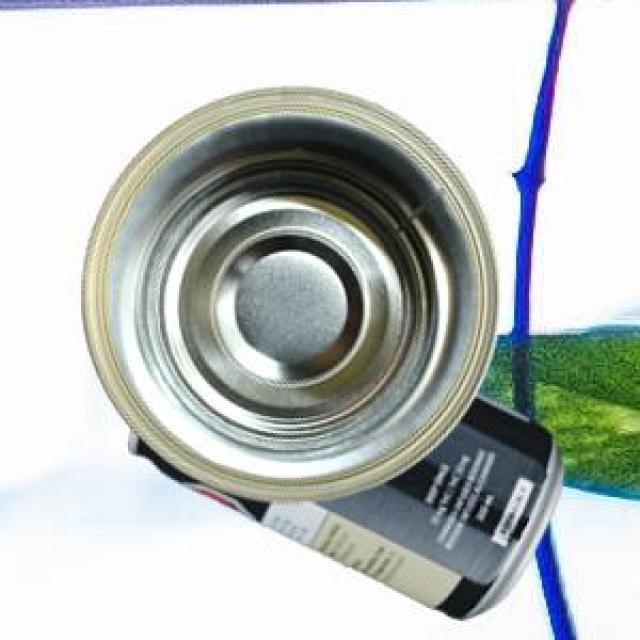logam: (80, 84, 496, 498), (125, 389, 560, 615)
